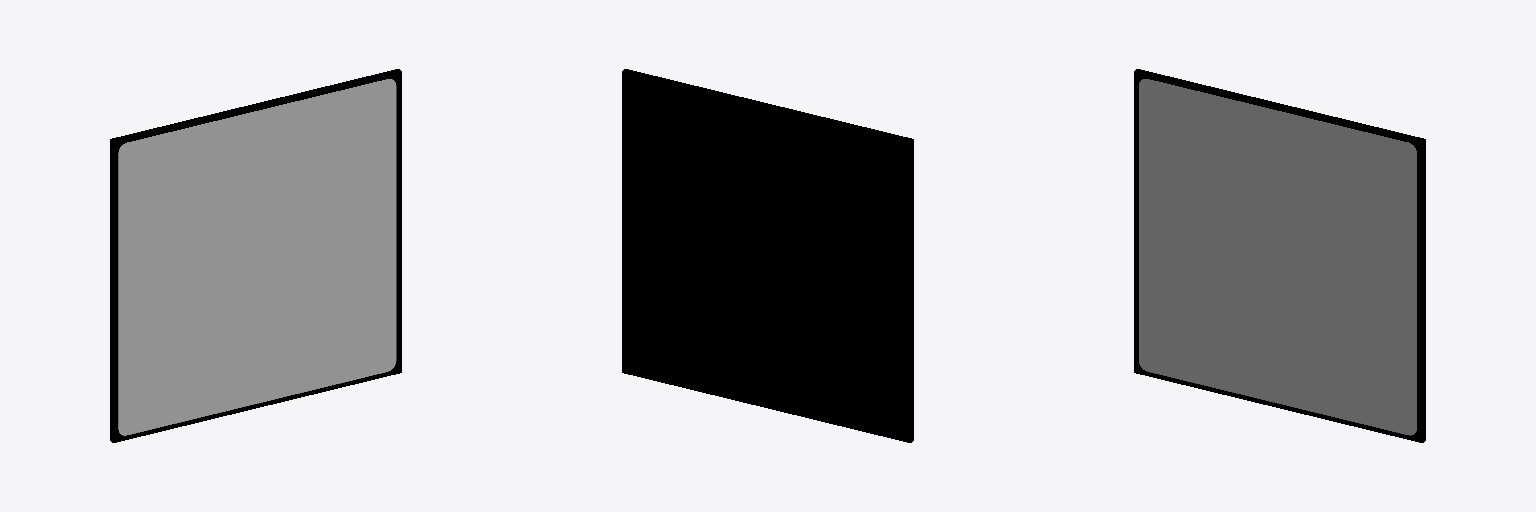
3 renders of one model, left to right at view 1: azimuth 30°, elevation 25°; view 2: azimuth 150°, elevation 25°; view 3: azimuth 330°, elevation 25°, orthographic.
Visible parts, largest first — view 1: Cube.002_Cube.004; view 2: Cube.002_Cube.004; view 3: Cube.002_Cube.004.
Boxes of the visible parts, box(x1,y1,x2,y2) form: Cube.002_Cube.004: box(110, 69, 401, 442); Cube.002_Cube.004: box(622, 69, 913, 442); Cube.002_Cube.004: box(1134, 69, 1425, 442).
Size of the model in its own units: 2 by 2 by 0.04.
Materials: 1 (1 with a texture image).